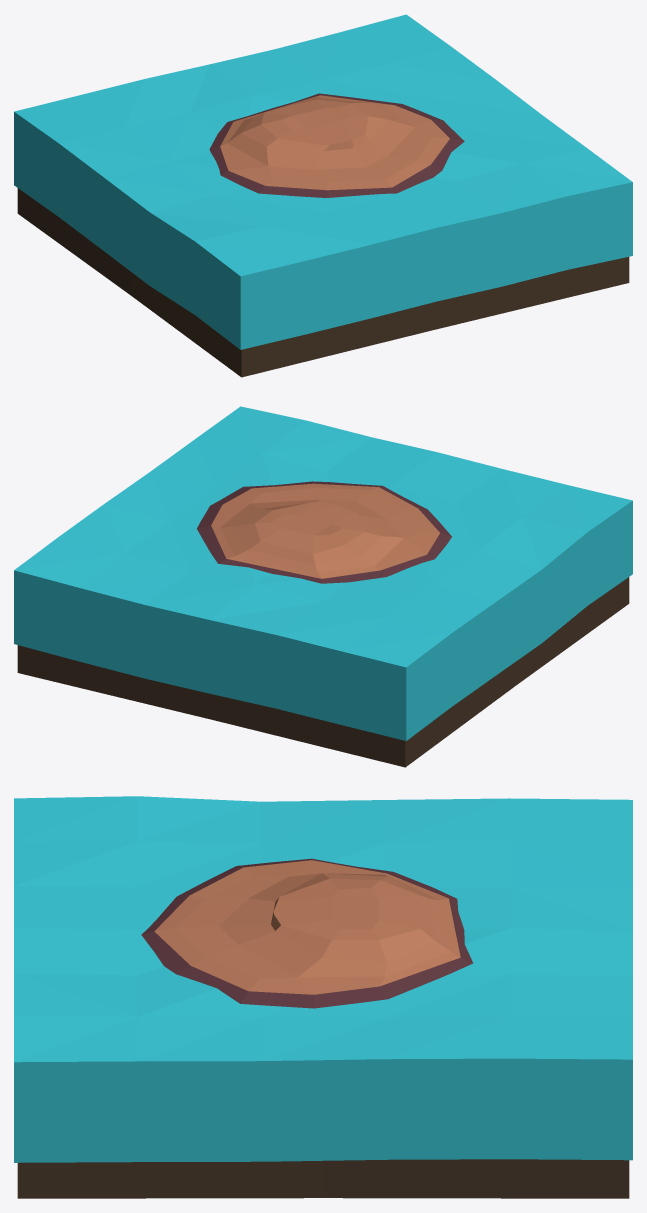
File: world-island.fbx
3 renders of one model, top to bottom at view 1: azimuth 30°, elevation 25°; view 2: azimuth 150°, elevation 25°; view 3: azimuth 270°, elevation 25°, orthographic. The views are drawn at different scales.
Visible parts, largest first — view 1: world-island; view 2: world-island; view 3: world-island.
Boxes of the visible parts, <box> form: world-island: <box>14,14,632,377</box>; world-island: <box>14,406,632,767</box>; world-island: <box>14,796,632,1198</box>.
Size of the model in its own units: 20 by 5.93 by 20.
